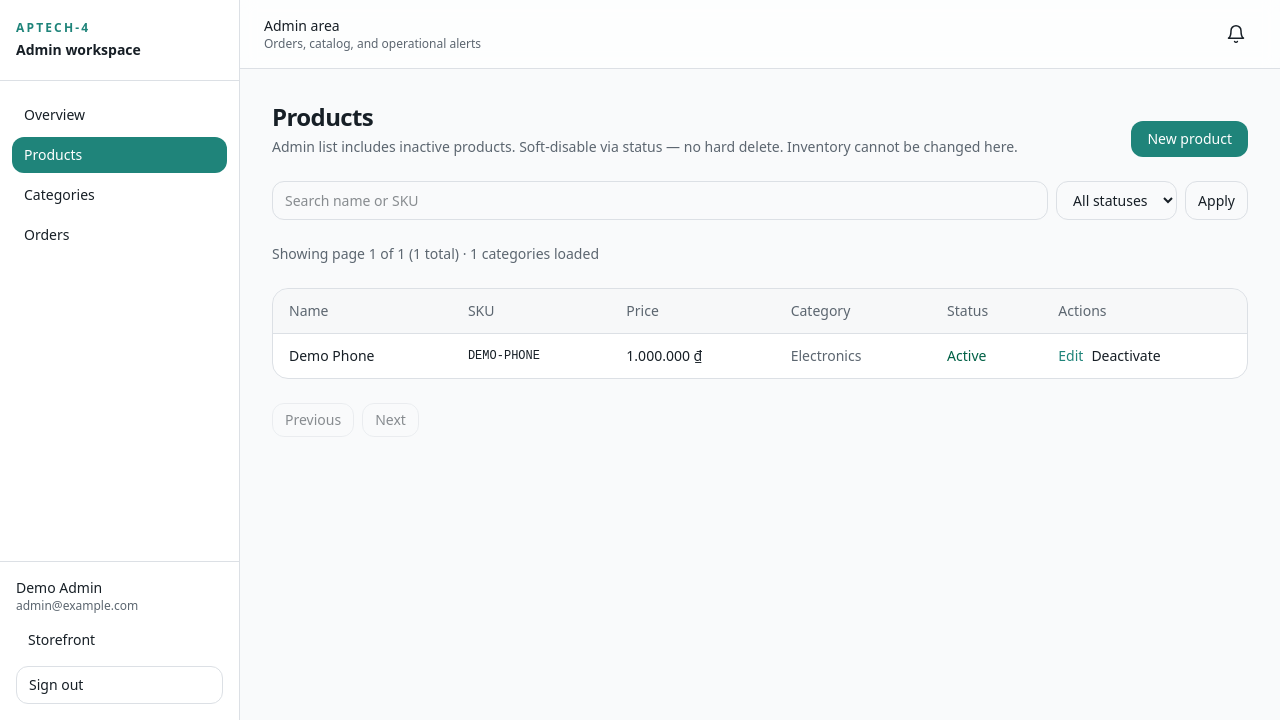
Test: Admin product pages › does not flip status in the UI when the status request fails
Expected: the text "Demo Phone" is shown, [273, 334, 452, 378]
Click the button "Deactivate". click: (1126,356)
box: [1091, 346, 1161, 366]
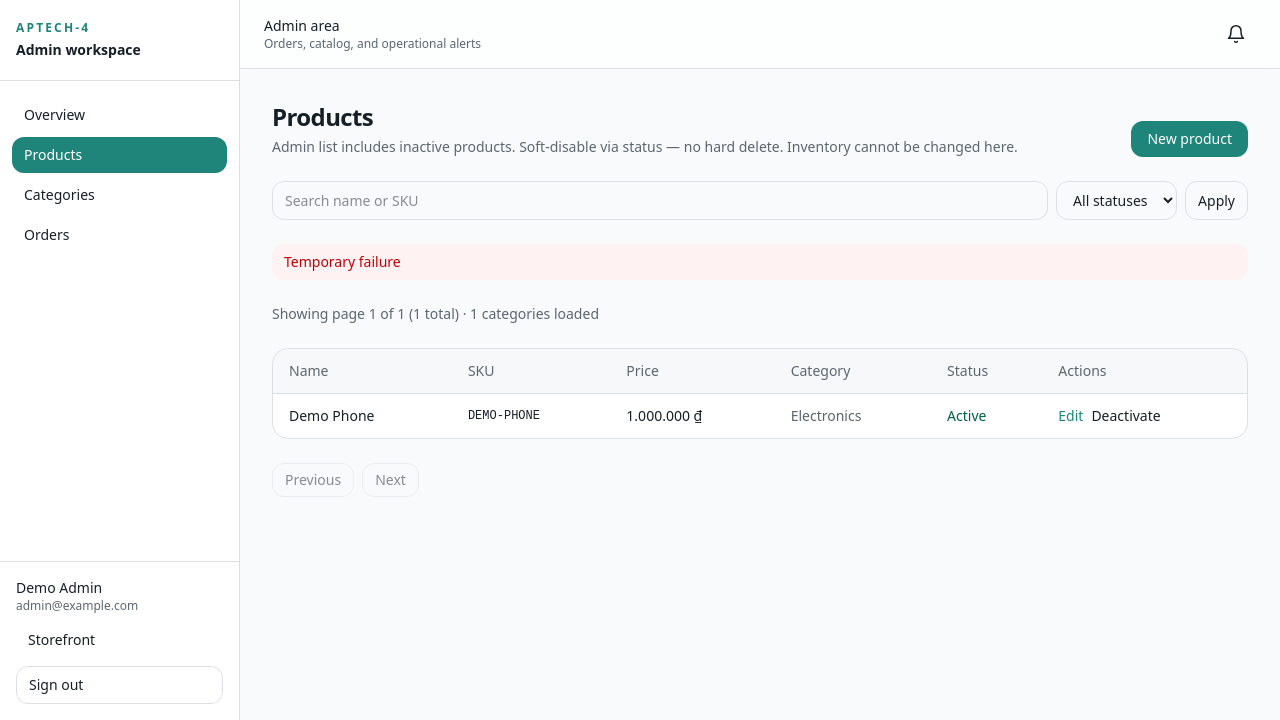
Expected: the button "Deactivate" is shown, [1091, 406, 1161, 426]
Result: the message reads "Temporary failure" at [284, 252, 401, 271]
